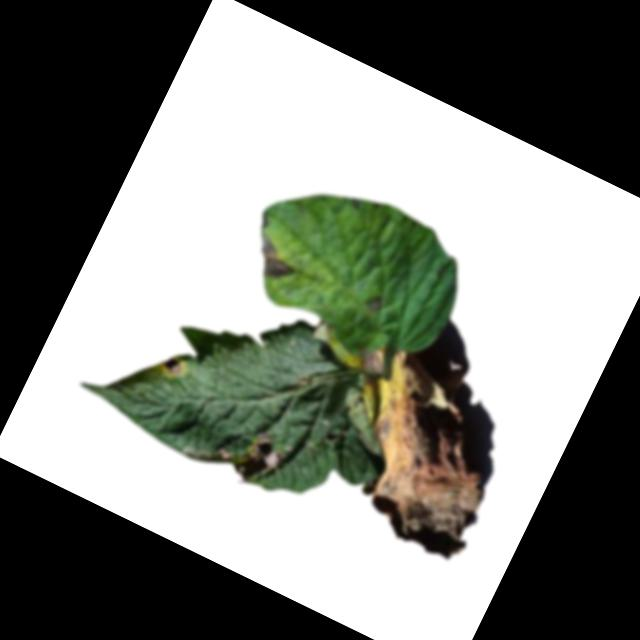Early_blight: (298, 337, 534, 569), (226, 423, 290, 491), (246, 232, 309, 290), (159, 351, 191, 382), (365, 290, 387, 314)
